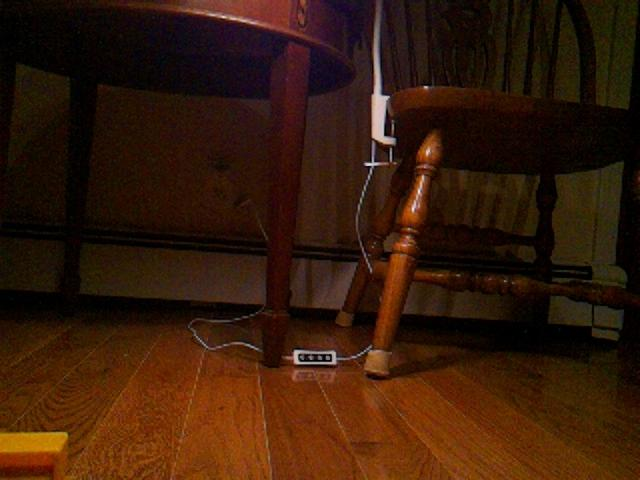yellow: (1, 429, 71, 480)
